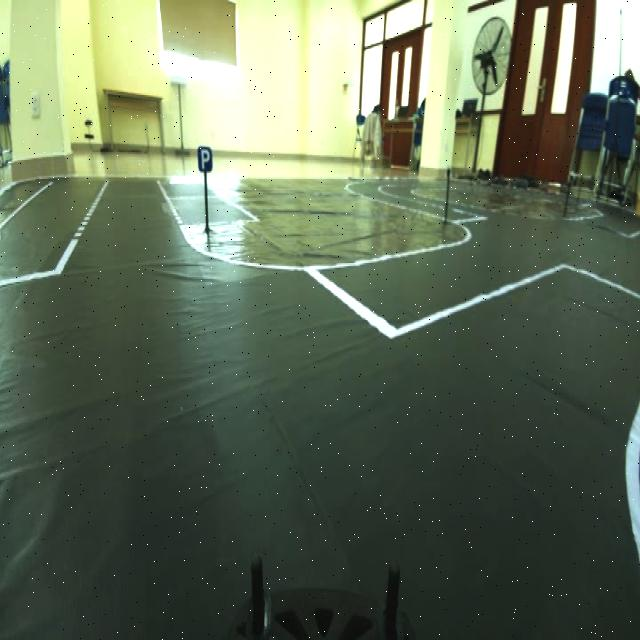parking: (197, 138, 217, 171)
